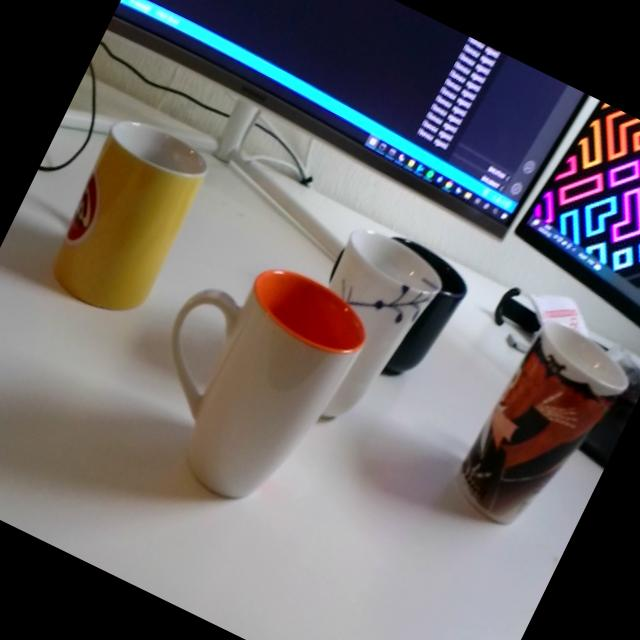Cocio Cup: (35, 110, 216, 328)
Halloween cup: (443, 305, 640, 549)
Hand painted cup: (270, 216, 452, 439)
White Cup: (109, 228, 381, 528)
